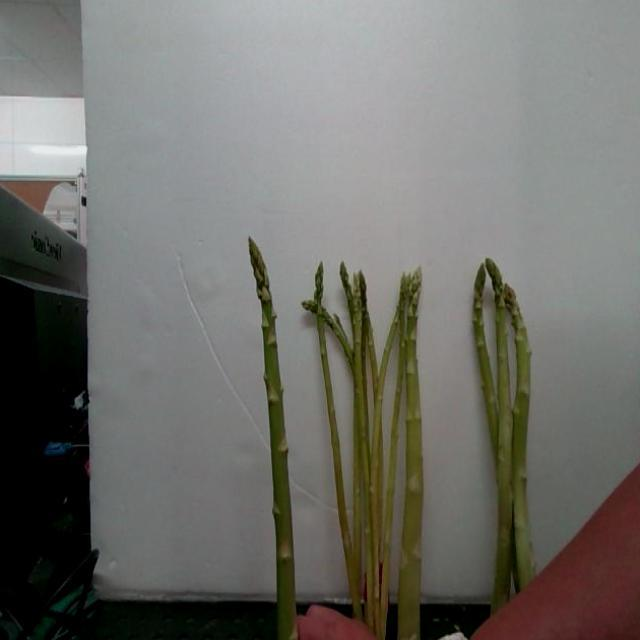aspargus: (249, 239, 299, 640), (398, 263, 425, 640)
